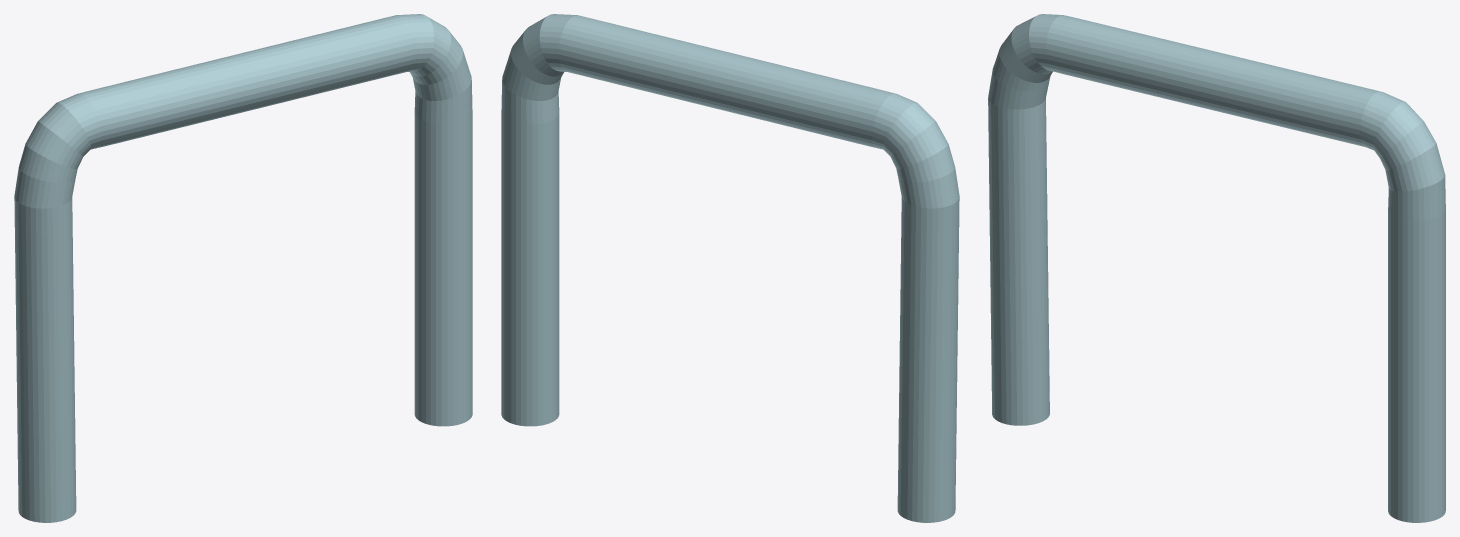
The model's file is bike rack hecka.fbx.
3 views of the same model, side by side, from view 1: azimuth 30°, elevation 25°; view 2: azimuth 150°, elevation 25°; view 3: azimuth 330°, elevation 25° (orthographic).
Parts seen in each view (by area): view 1: Cylinder.009; view 2: Cylinder.009; view 3: Cylinder.009.
Boxes of the visible parts, box(x1,y1,x2,y2) form: Cylinder.009: box(14, 14, 472, 522); Cylinder.009: box(501, 14, 959, 522); Cylinder.009: box(988, 14, 1445, 522).
Bounding box in the file's own units: 114 × 98.59 × 12.73.
